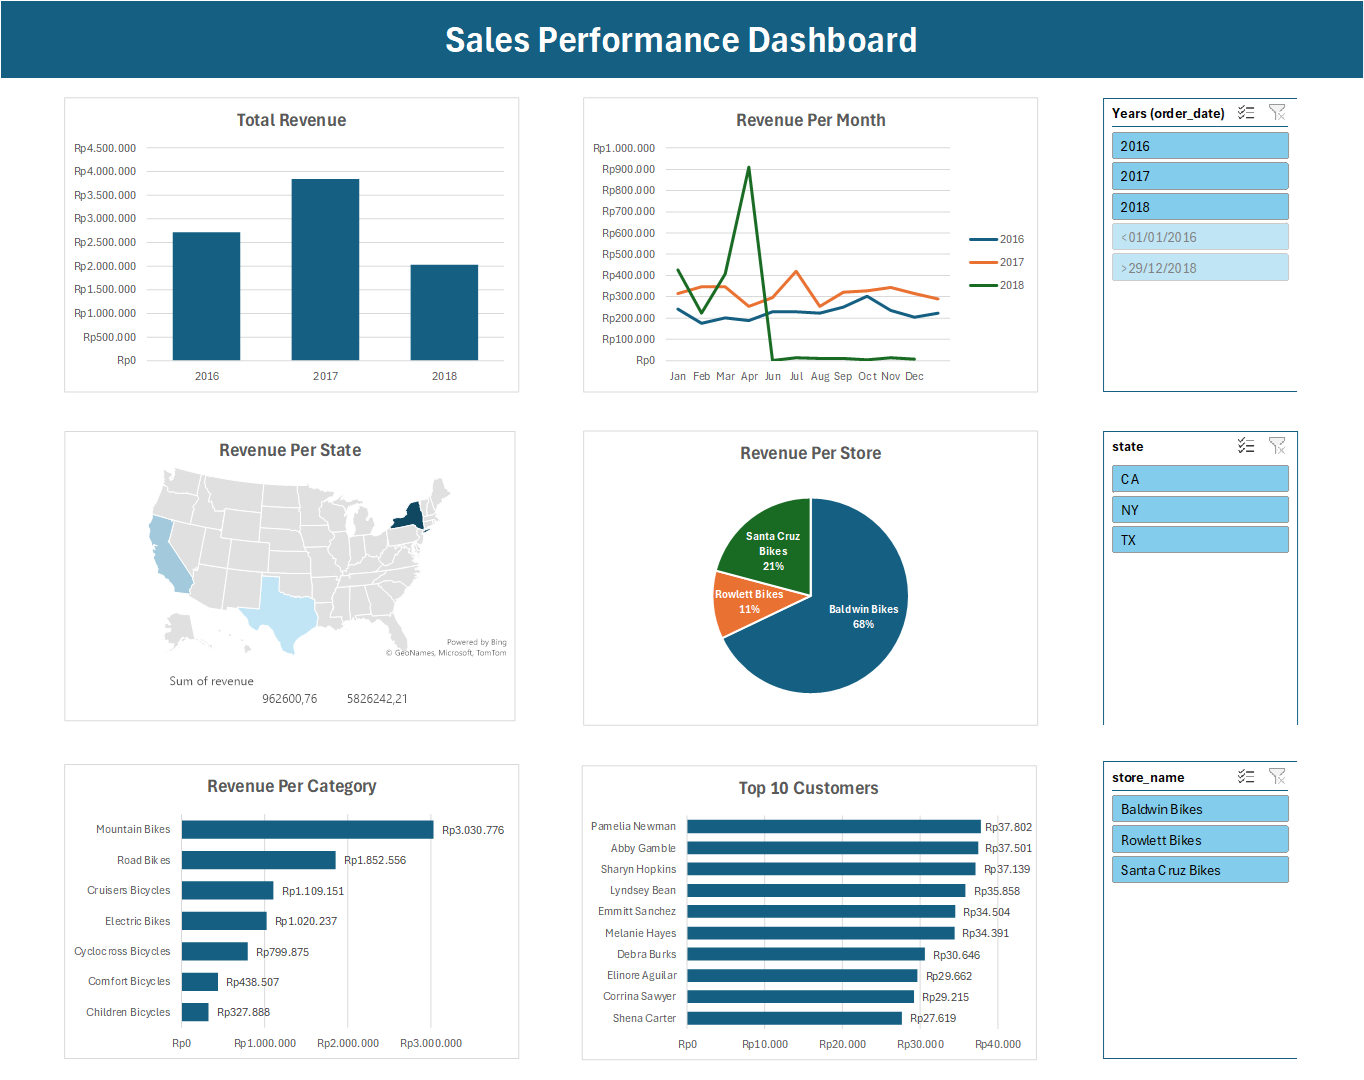

The page's visual inventory and layout, read from the dashboard file:
{"tool":"tableau","page":{"name":"Dashboard 1","canvas":[1000,1000],"units":"permille","ordinal":0},"visuals":[{"type":"text","box":[6.7,4,770.8,76]},{"type":"worksheet","title":"Year","mark":"Automatic","box":[777.5,4,215.8,76]},{"type":"worksheet","title":"Banner","mark":"Automatic","box":[6.7,80,986.7,106]},{"type":"worksheet","title":"Title","mark":"Automatic","box":[6.7,186,846.7,34.5]},{"type":"filter","title":"Revenue per State","param":"[federated.1759cl719blsgr1fkv01w0npzlzc].[none:state:nk]","box":[853.3,186,140,34.5]},{"type":"worksheet","title":"Revenue per Year","mark":"Bar","rows":["revenue"],"cols":["order_date"],"box":[6.7,221,482.8,171]},{"type":"worksheet","title":"Revenue per Month","mark":"Automatic","rows":["revenue"],"cols":["order_date"],"box":[489.4,221,503.9,171]},{"type":"worksheet","title":"Revenue per State","mark":"Multipolygon","box":[6.7,392,483,216.5]},{"type":"worksheet","title":"Revenue per Store","mark":"Pie","box":[489.7,392,503.7,216.5]},{"type":"worksheet","title":"Revenue per Brand","mark":"Pie","box":[6.7,608.5,483.3,205.5]},{"type":"worksheet","title":"Revenue per Category","mark":"Automatic","box":[490,608.5,503.4,205.5]},{"type":"worksheet","title":"Top Customers","mark":"Automatic","rows":["customers"],"cols":["revenue"],"box":[6.7,814,483.2,182]},{"type":"worksheet","title":"Revenue per Sales Rep","mark":"Automatic","rows":["sales_rep"],"cols":["revenue"],"box":[489.9,814,503.4,182]}]}

Visuals, with their boxes on the dashboard's canvas, which has no fixed pixel size, in thousandths of its width and height (x1, y1, x2, y2). These are canvas units, not pixel positions in the 1364x1080 screenshot, which may show the page scaled, cropped or inside an application window:
text: (7,4,778,80)
"Year" worksheet: (778,4,993,80)
"Banner" worksheet: (7,80,993,186)
"Title" worksheet: (7,186,853,220)
"Revenue per State" filter: (853,186,993,220)
"Revenue per Year" worksheet (Bar marks): (7,221,490,392)
"Revenue per Month" worksheet: (489,221,993,392)
"Revenue per State" worksheet (Multipolygon marks): (7,392,490,608)
"Revenue per Store" worksheet (Pie marks): (490,392,993,608)
"Revenue per Brand" worksheet (Pie marks): (7,608,490,814)
"Revenue per Category" worksheet: (490,608,993,814)
"Top Customers" worksheet: (7,814,490,996)
"Revenue per Sales Rep" worksheet: (490,814,993,996)
